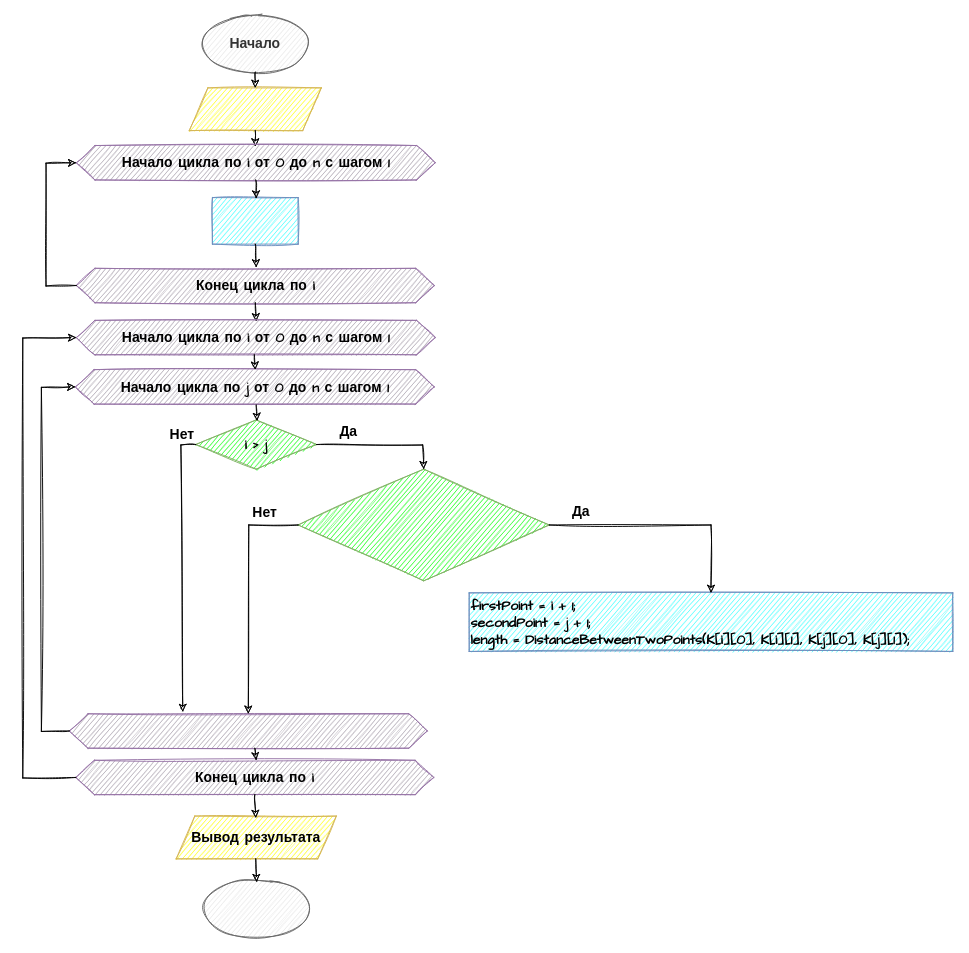
This 969x953 diagram has some shape labels left out. The centre of each missing label's shape, as x and y in pixels:
"DistanceBetweenTwoPoints(K[i][0], K[i][1], K[j][0], K[j][1]) > length" belongs at point 423,524.
"Ввод x i , y i" belongs at point 254,220.
"Ввод числа n" belongs at point 254,109.
"Конец" belongs at point 255,908.
"Конец цикла по j" belongs at point 247,730.
